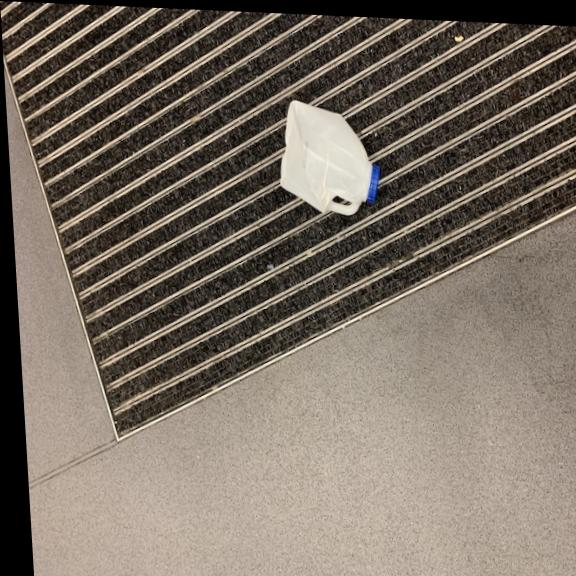Plastik: (275, 96, 388, 218)
